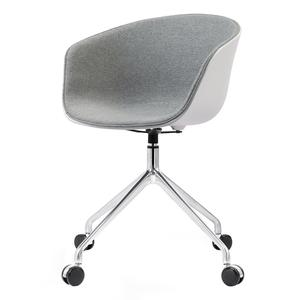chairs: (44, 12, 247, 288)
